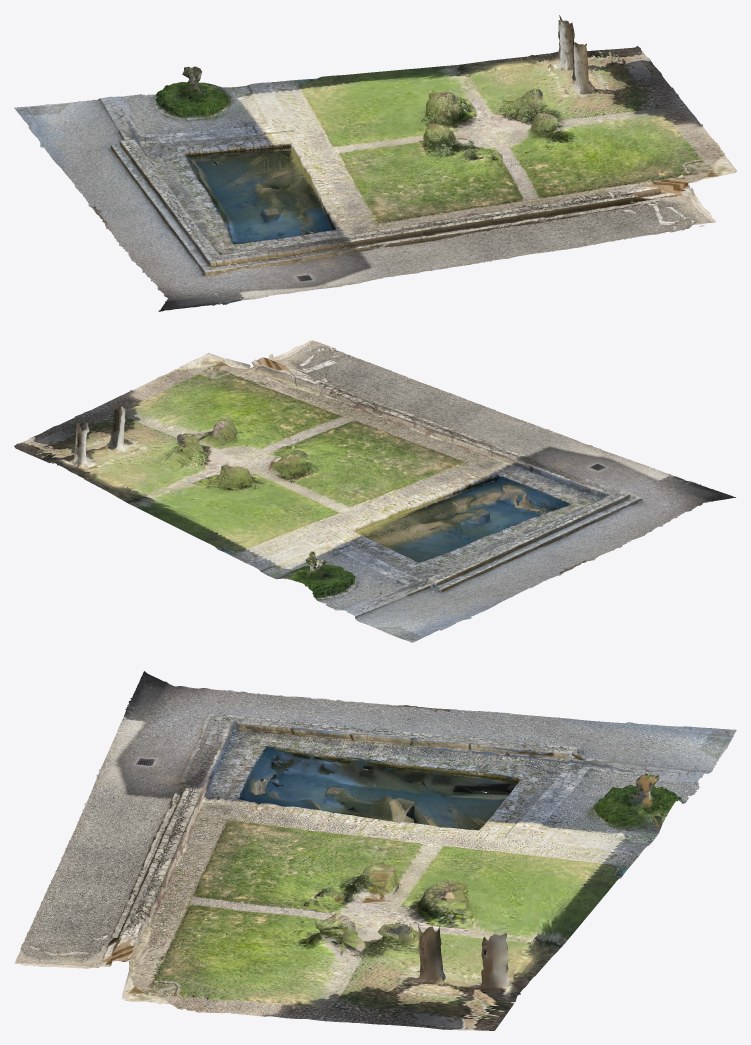
File: medium.glb
The picture shows the model from 3 angles, top to bottom: view 1: azimuth 30°, elevation 25°; view 2: azimuth 150°, elevation 25°; view 3: azimuth 270°, elevation 25°; orthographic projection. The views are drawn at different scales.
Visible parts, largest first — view 1: medium.017; view 2: medium.017; view 3: medium.017.
Boxes of the visible parts, x1,y1,x2,y2 form: medium.017: [14, 15, 736, 311]; medium.017: [14, 340, 735, 642]; medium.017: [14, 671, 736, 1030].
Size of the model in its own units: 26.98 by 3.43 by 22.34.
Materials: 1 (1 with a texture image).
